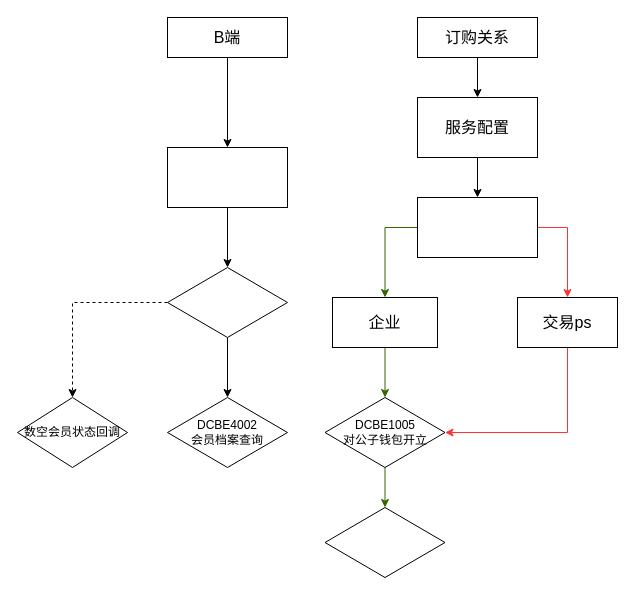
Some shapes in this 635 by 595 pixel diagram are drawn without their labels. The shapes that lost their labels are listed below. From the top down, each one's centre as x and y in pixels, then its label:
At pixel 227 177: "是否已完成 会员认证".
At pixel 477 227: "创建企业/交易服务商账户".
At pixel 227 302: "DCBE4001 会员认证".
At pixel 384 542: "DCBE4000 会员档案录入".
